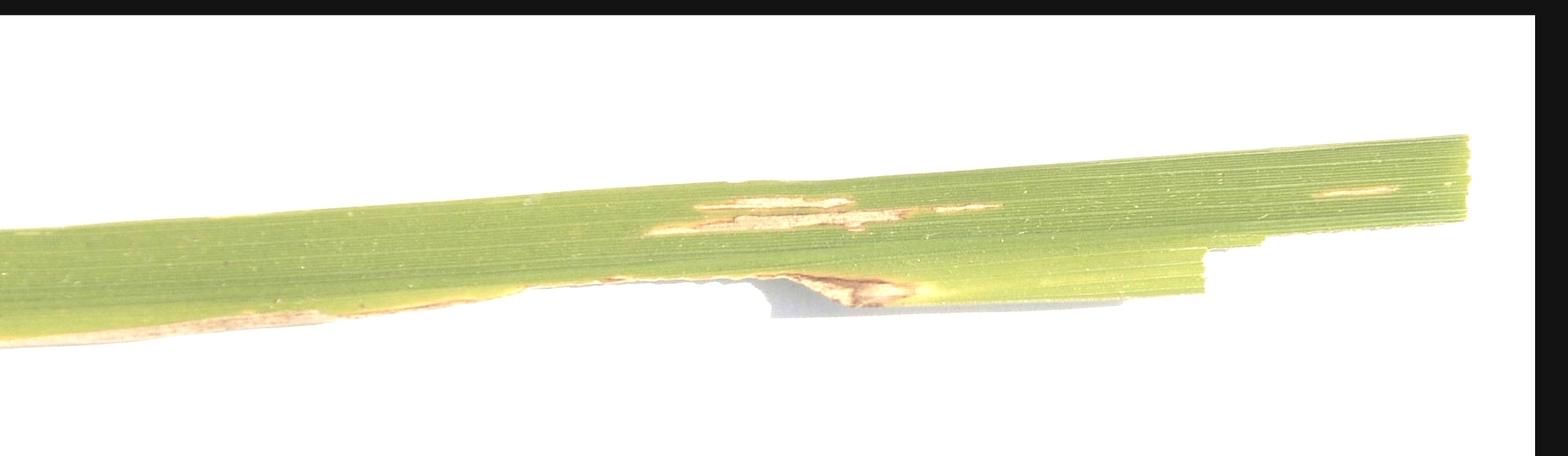Leaf_Blast: (596, 152, 1066, 239), (1272, 155, 1447, 210)
